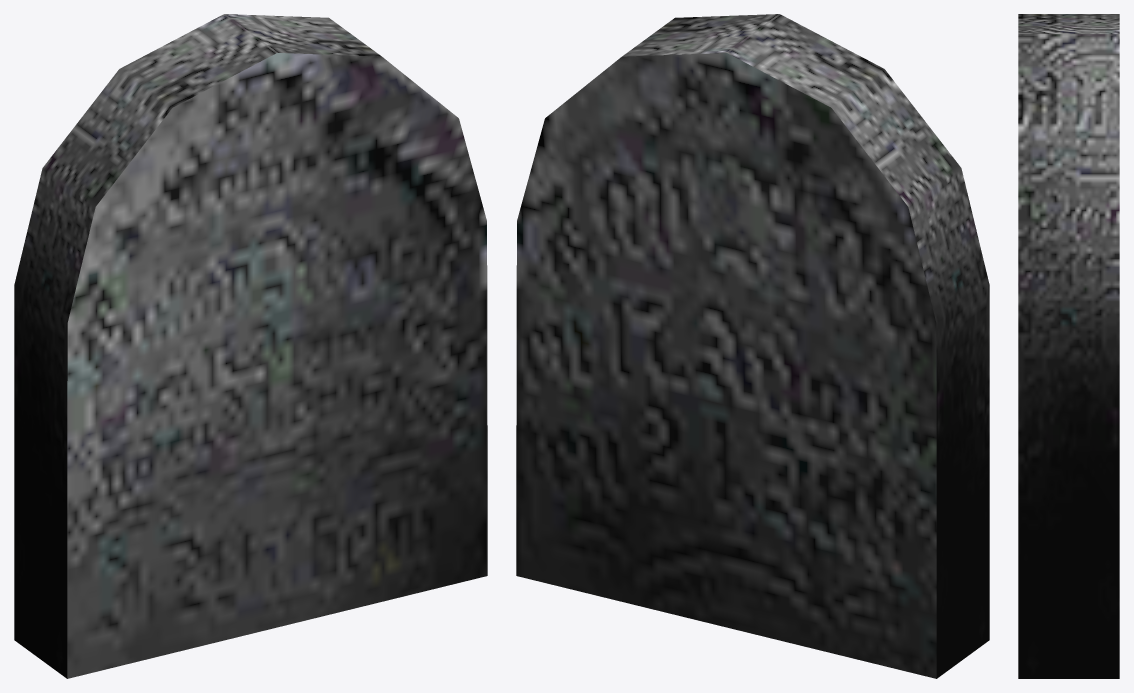
3 views of the same model, side by side, from view 1: azimuth 30°, elevation 25°; view 2: azimuth 150°, elevation 25°; view 3: azimuth 270°, elevation 25° (orthographic). The views are drawn at different scales.
Parts seen in each view (by area): view 1: Tomb03; view 2: Tomb03; view 3: Tomb03.
Part boxes in pixels (left/top/right/bottom): Tomb03: left=14, top=14, right=487, bottom=678; Tomb03: left=516, top=14, right=989, bottom=678; Tomb03: left=1018, top=14, right=1119, bottom=678.
Size of the model in its own units: 89.76 by 117 by 19.64.
